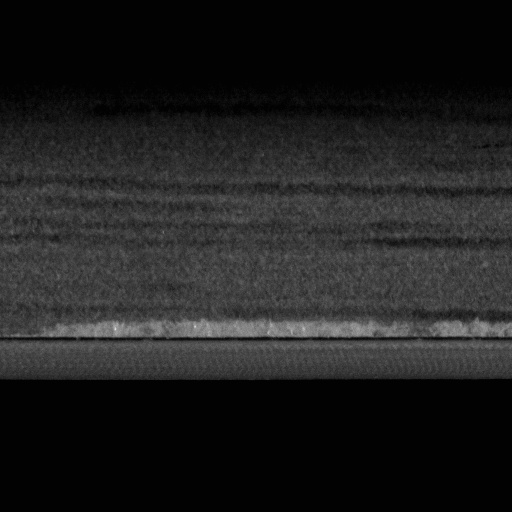jiaofeng: (0, 333, 511, 348)
